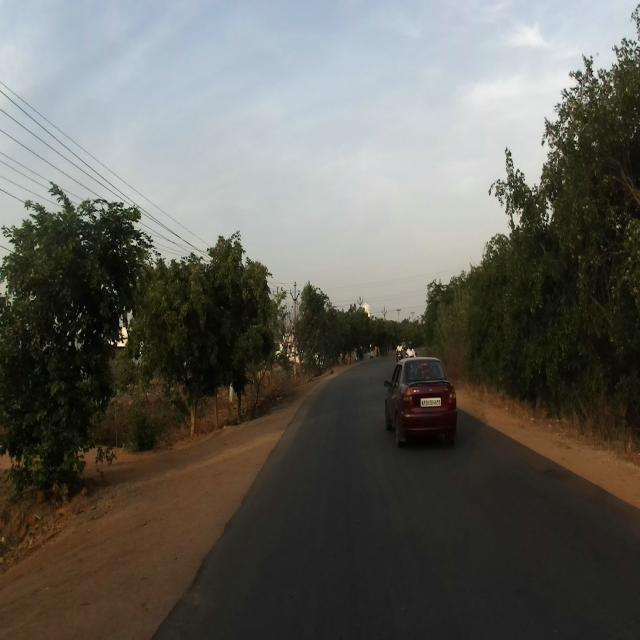car: (384, 356, 456, 445)
